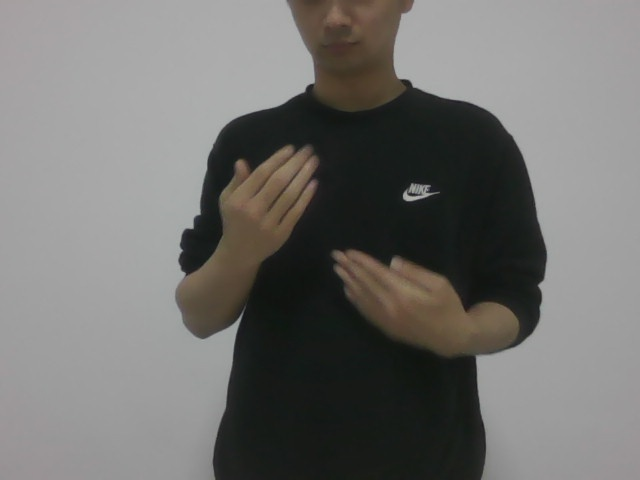tea: (216, 147, 459, 365)
